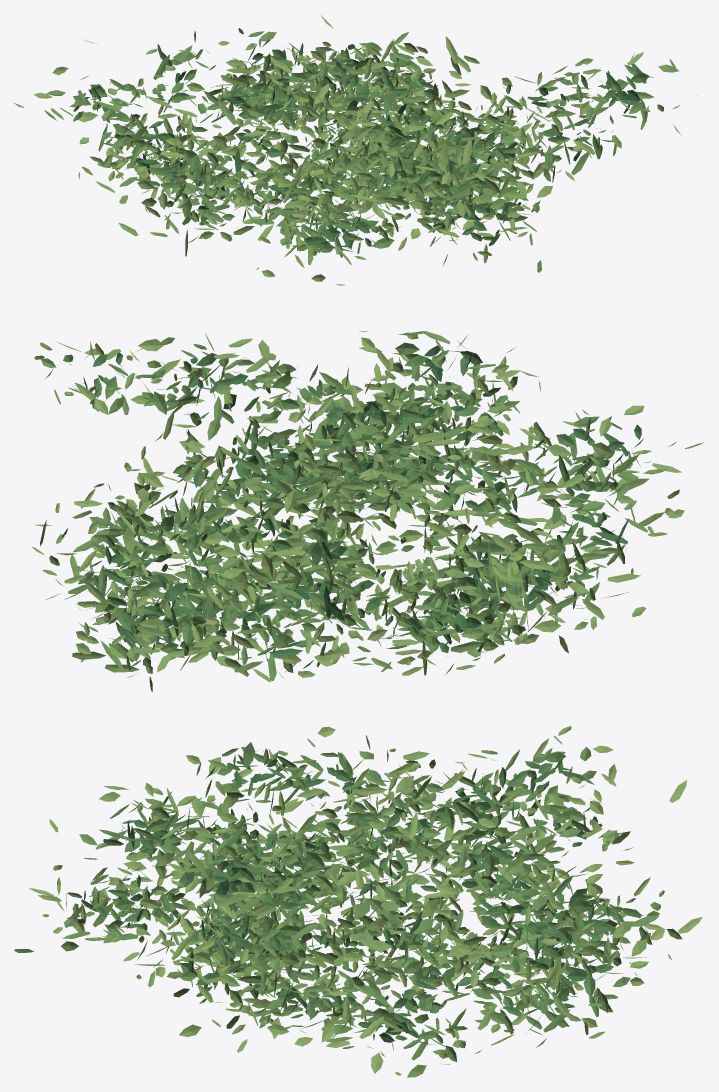
File: holy_canopy4_refined.glb
3 renders of one model, top to bottom at view 1: azimuth 30°, elevation 25°; view 2: azimuth 150°, elevation 25°; view 3: azimuth 270°, elevation 25°, orthographic. The views are drawn at different scales.
Parts seen in each view (by area): view 1: holy_canopy4; view 2: holy_canopy4; view 3: holy_canopy4.
Part boxes in pixels (x1,y1,x2,y2): holy_canopy4: [14, 15, 696, 285]; holy_canopy4: [32, 330, 704, 691]; holy_canopy4: [14, 726, 702, 1077].
Size of the model in its own units: 19.56 by 7.17 by 18.9.
1 material, 1 textured.
